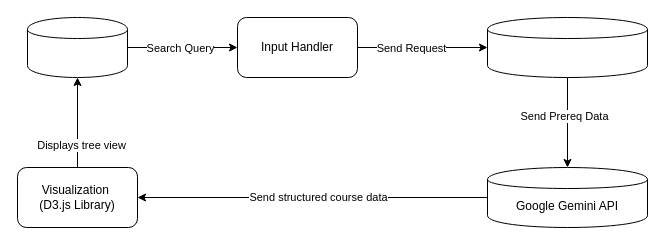
Some shapes in this 665 by 245 pixel diagram are drawn without their labels. Here are the shapes that lost their labels. From the top down, the centre of each, then its label:
At (77,47): "User".
At (567,47): "SFU Courses API".
